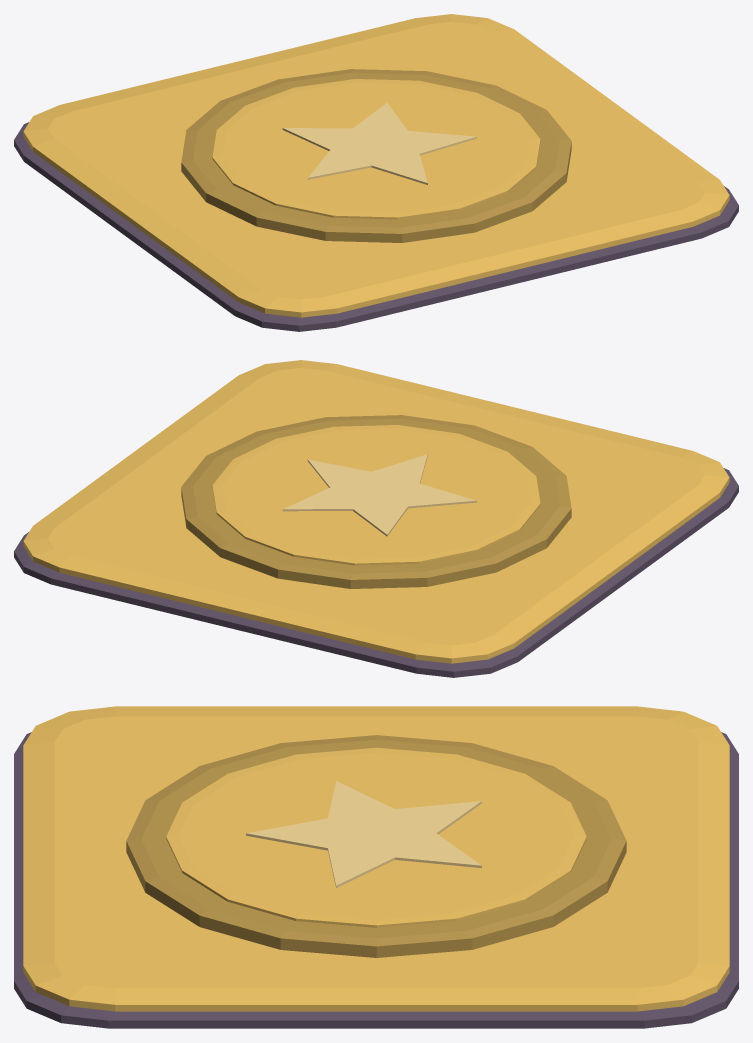
File: tile_money.glb
3 views of the same model, one above another, from view 1: azimuth 30°, elevation 25°; view 2: azimuth 150°, elevation 25°; view 3: azimuth 270°, elevation 25° (orthographic). The views are drawn at different scales.
Visible parts, largest first — view 1: model; view 2: model; view 3: model.
Part boxes in pixels (x1=…): model: x1=14, y1=14, x2=738, y2=331; model: x1=14, y1=360, x2=738, y2=677; model: x1=14, y1=706, x2=738, y2=1028.
Size of the model in its own units: 2 by 0.14 by 2.
